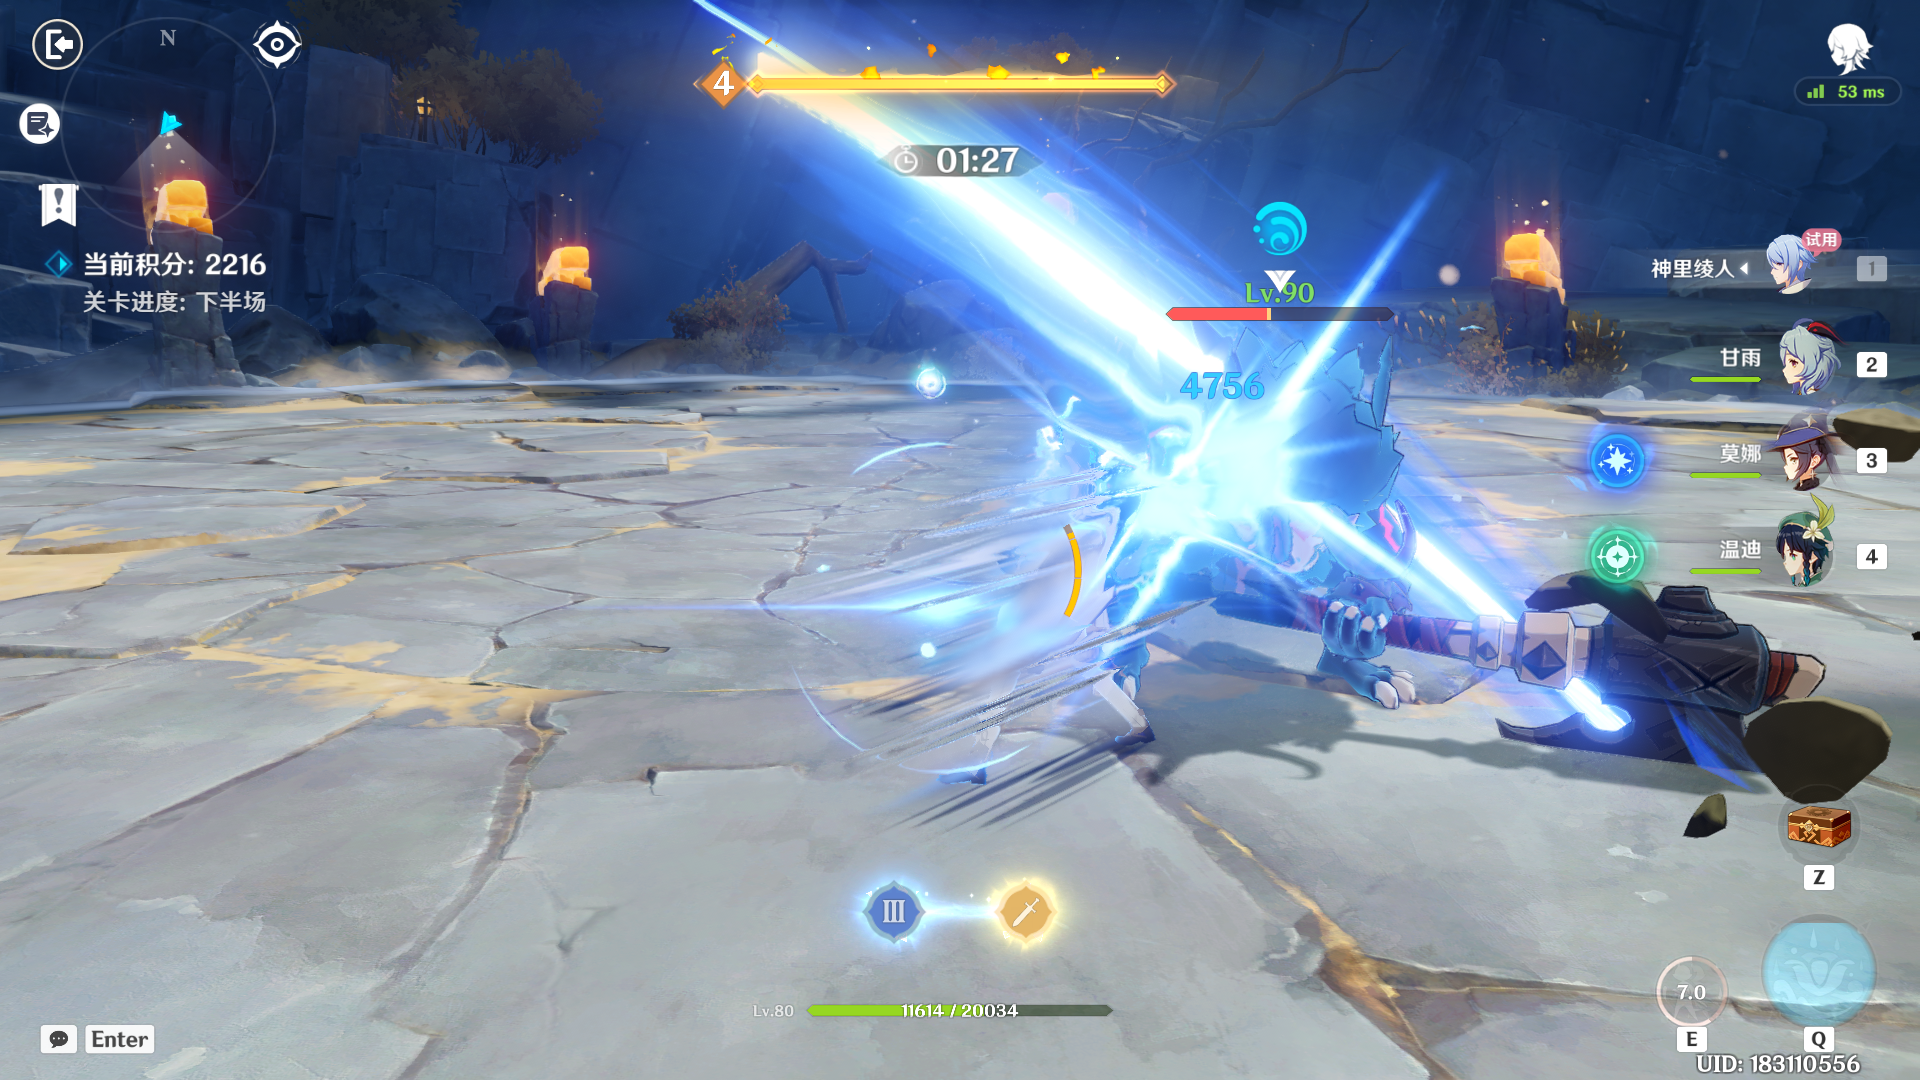bighili: (1062, 309, 1501, 795)
